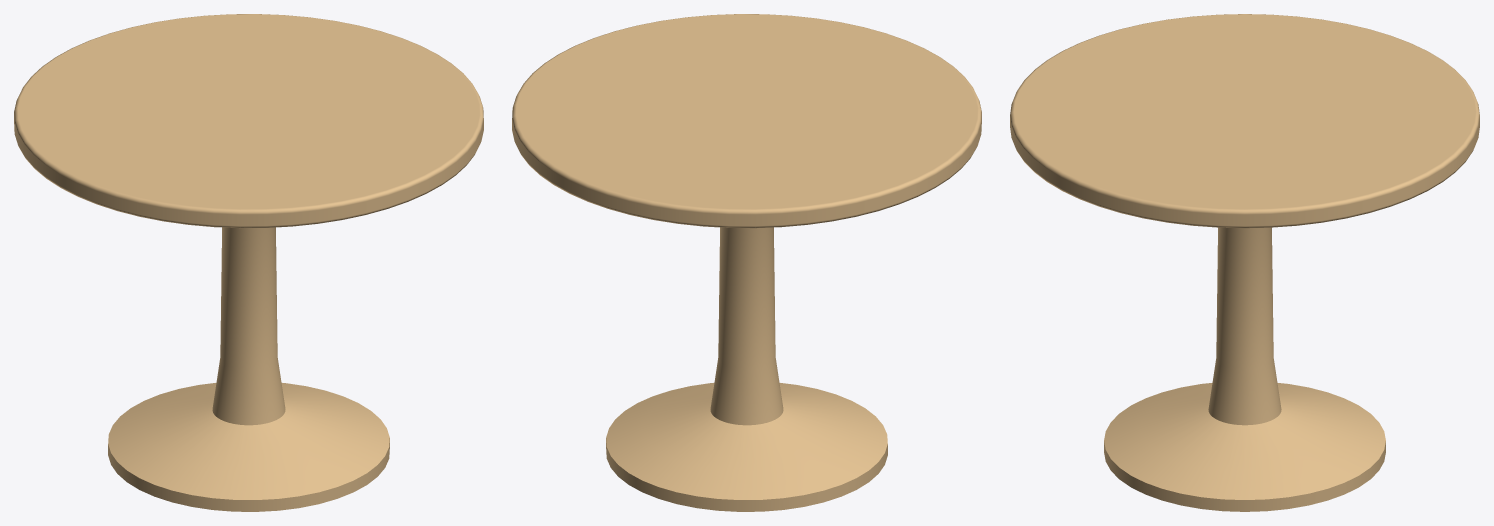
Rendered from table_dining_round.glb.
3 renders of one model, left to right at view 1: azimuth 30°, elevation 25°; view 2: azimuth 150°, elevation 25°; view 3: azimuth 270°, elevation 25°, orthographic.
Parts seen in each view (by area): view 1: table_dining_round; view 2: table_dining_round; view 3: table_dining_round.
Part boxes in pixels (<box>): table_dining_round: <box>14,14,483,511</box>; table_dining_round: <box>512,14,981,511</box>; table_dining_round: <box>1010,14,1479,511</box>.
Size of the model in its own units: 0.9 by 0.72 by 0.9.
